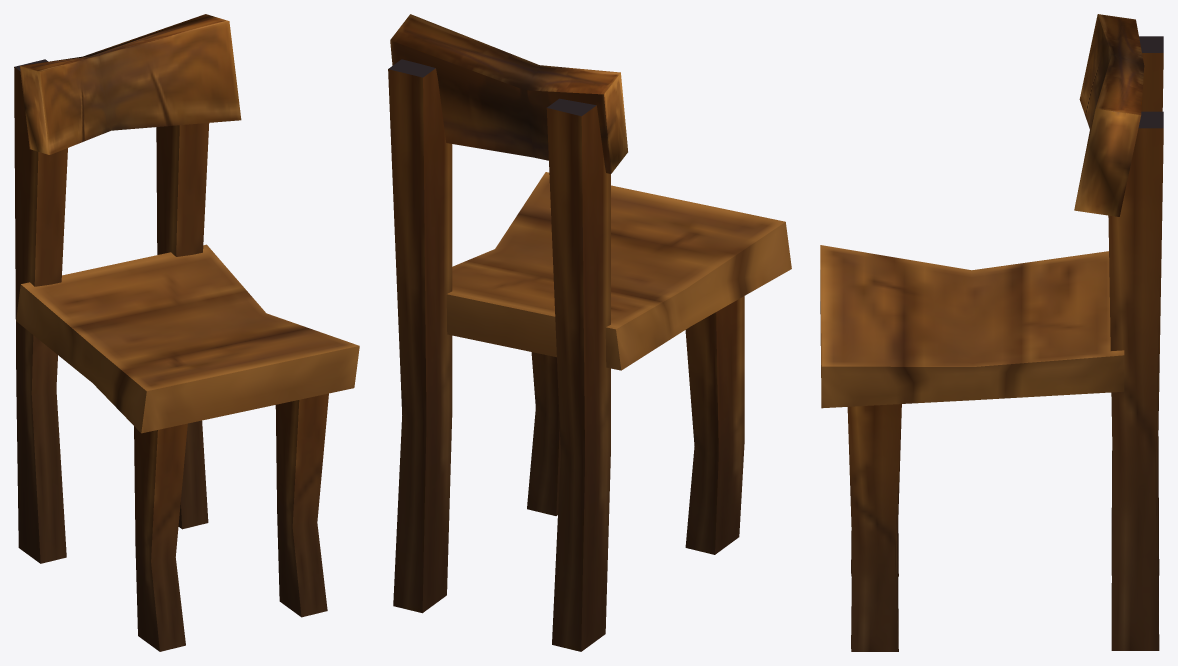
The model's file is seat_2.fbx.
3 renders of one model, left to right at view 1: azimuth 30°, elevation 25°; view 2: azimuth 150°, elevation 25°; view 3: azimuth 270°, elevation 25°, orthographic. The views are drawn at different scales.
Visible parts, largest first — view 1: seat_2; view 2: seat_2; view 3: seat_2.
Boxes of the visible parts, x1,y1,x2,y2 form: seat_2: (14, 14, 359, 651); seat_2: (388, 14, 791, 651); seat_2: (820, 14, 1163, 651).
Size of the model in its own units: 0.5048 by 1.11 by 0.6281.
